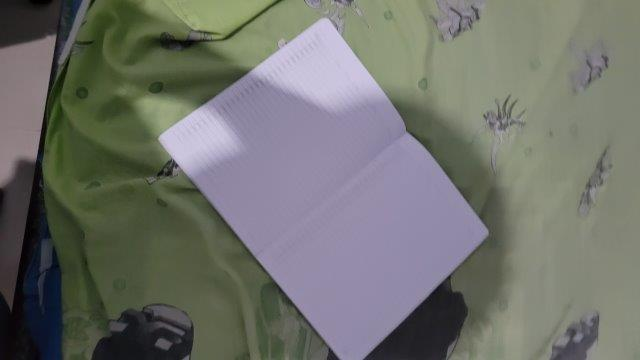kertas: (159, 18, 488, 360)
